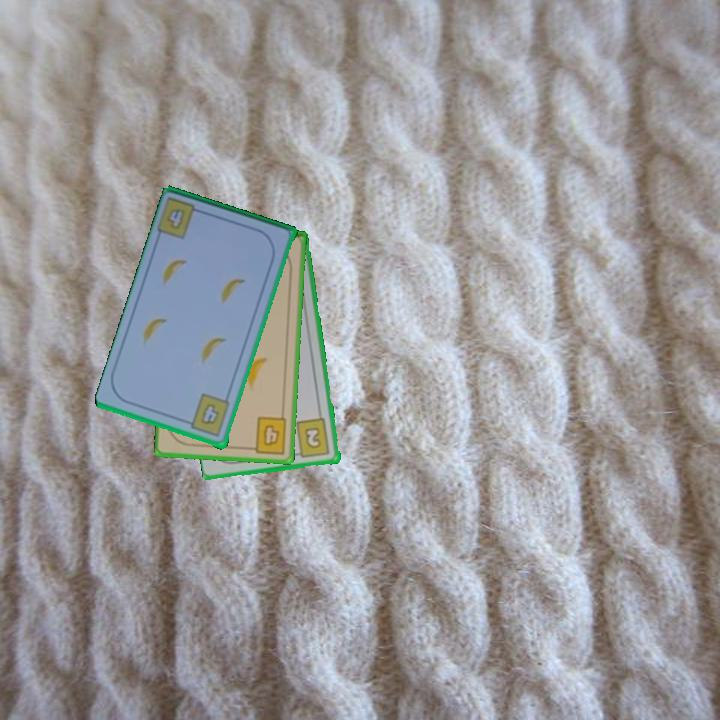2b: (291, 415, 333, 461)
4b: (155, 194, 208, 243), (182, 391, 233, 440), (245, 413, 289, 457)
